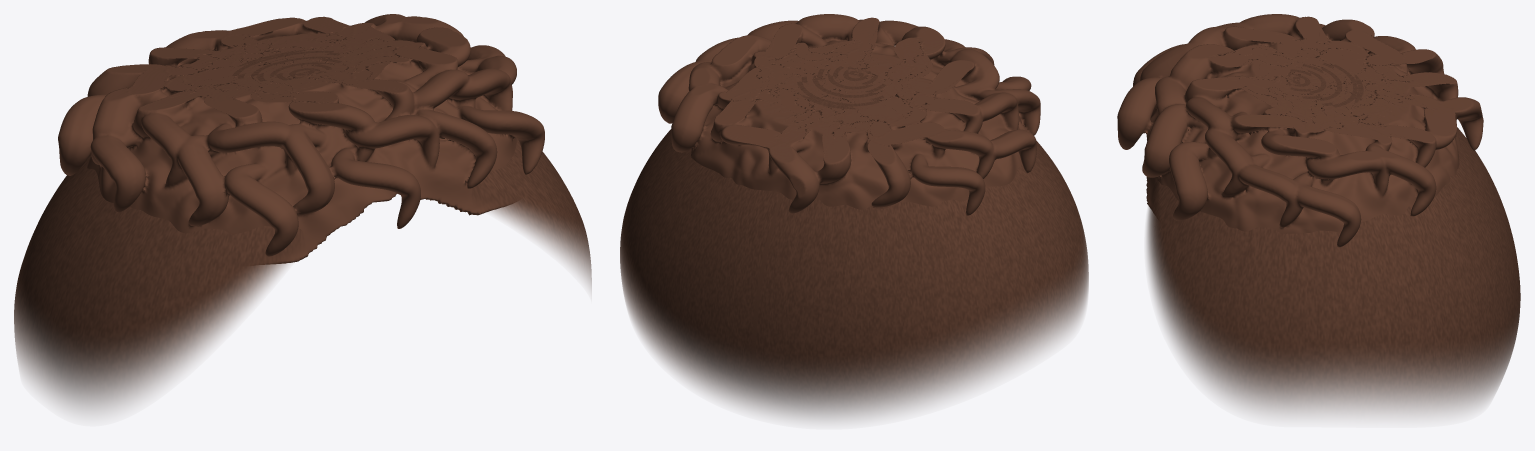
File: Masculine-curly-top-bucket252-hair.glb
3 views of the same model, side by side, from view 1: azimuth 30°, elevation 25°; view 2: azimuth 150°, elevation 25°; view 3: azimuth 270°, elevation 25° (orthographic). The views are drawn at different scales.
Parts seen in each view (by area): view 1: 226 hair / Hair252 / sculpted curl groups.001, 226 hair / Hair252 / curly close fade coverage.001; view 2: 226 hair / Hair252 / curly close fade coverage.001, 226 hair / Hair252 / sculpted curl groups.001; view 3: 226 hair / Hair252 / curly close fade coverage.001, 226 hair / Hair252 / sculpted curl groups.001.
Boxes of the visible parts, x1,y1,x2,y2 form: 226 hair / Hair252 / sculpted curl groups.001: (58,14,544,264); 226 hair / Hair252 / curly close fade coverage.001: (14,49,591,411); 226 hair / Hair252 / curly close fade coverage.001: (620,66,1088,419); 226 hair / Hair252 / sculpted curl groups.001: (658,14,1040,215); 226 hair / Hair252 / curly close fade coverage.001: (1146,62,1520,414); 226 hair / Hair252 / sculpted curl groups.001: (1117,14,1483,247).
Bounding box in the file's own units: 0.976 × 0.673 × 0.762.
2 materials, 1 textured.
